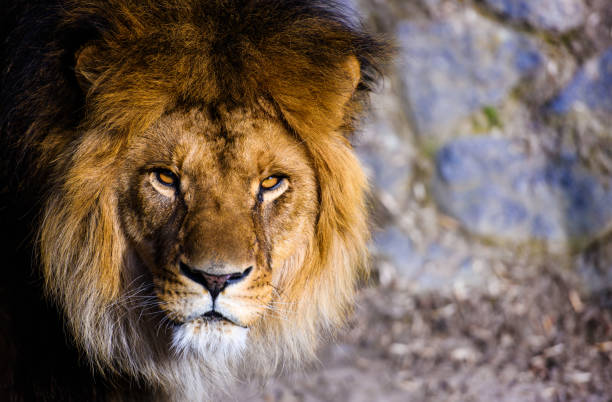lion: (20, 15, 425, 402)
